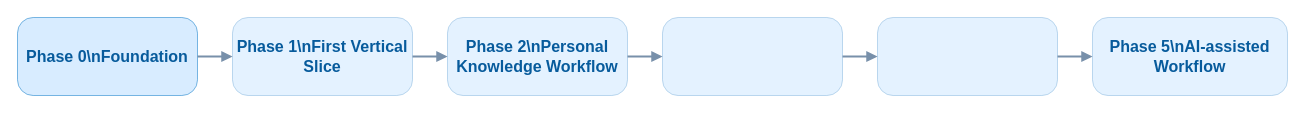
This 1305x113 diagram has some shape labels left out. The box of each missing label's shape, as (x1, y1, x2, y2) in pixels:
Phase 3\nContent Expansion: (662, 16, 842, 96)
Phase 4\nLabs and Tools: (876, 16, 1058, 96)
